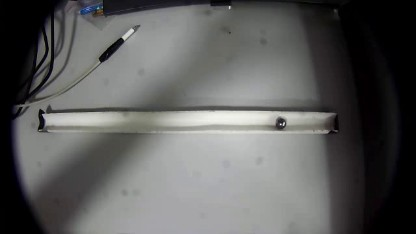gangzhu: (274, 117, 287, 130)
